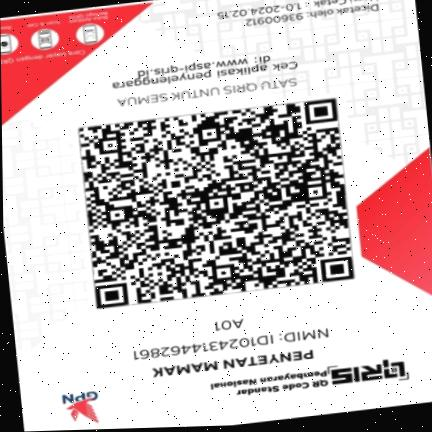Cara Pakai QRIS: (0, 8, 120, 68)
Cek Aplikasi Penyelenggara: (105, 48, 304, 92)
Dicetak Oleh: (242, 3, 382, 28)
Logo GPN: (56, 386, 112, 430)
Logo dan deskripsi QRIS: (203, 356, 414, 406)
Nama Merchant: (146, 345, 320, 383)
National Merchant ID: (121, 325, 335, 366)
QR Code: (68, 91, 367, 322)
Slogan: (108, 73, 306, 112)
Terminal ID: (205, 315, 255, 336)
Versi Cetak: (212, 0, 381, 21)
